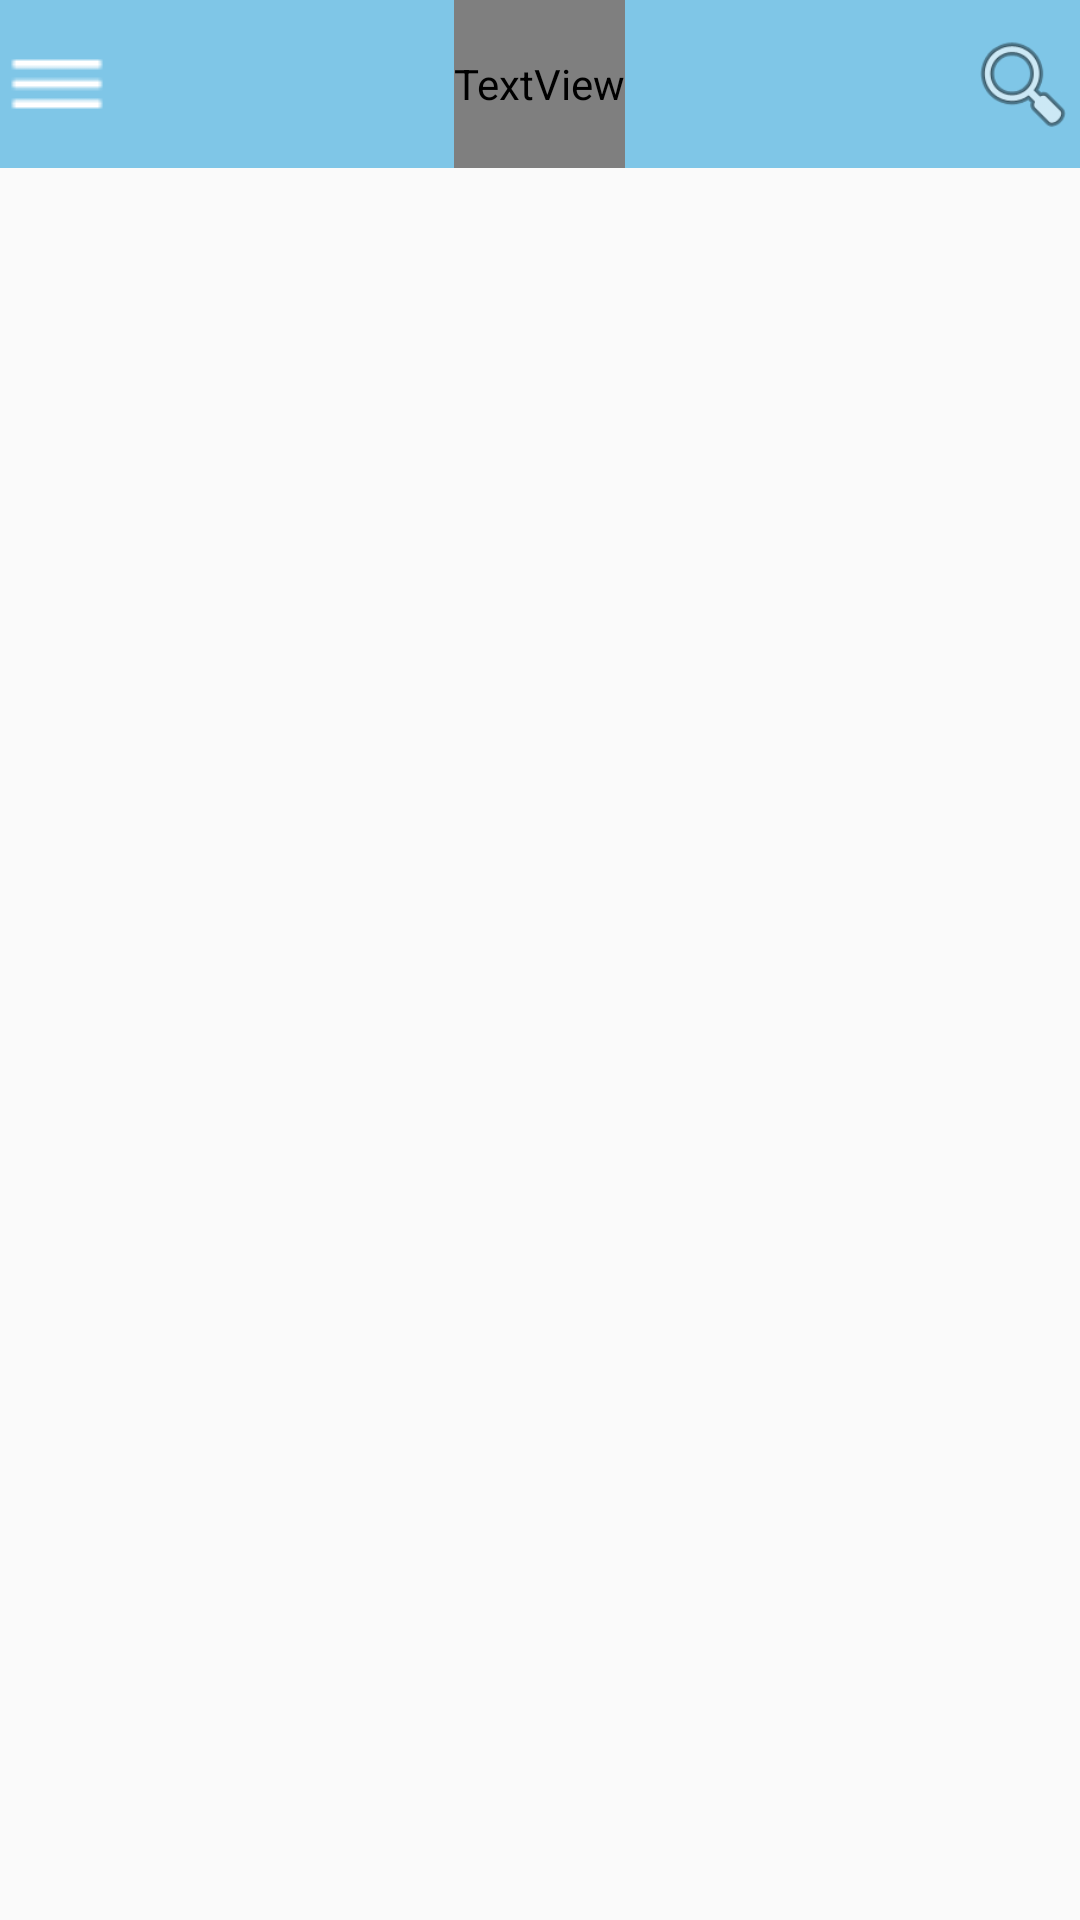

Icon bounding boxes for this 1080×1920 phone screenshot, format [x1, y1, x2, y2]:
humbuger: [11, 59, 103, 109]
search: [981, 42, 1065, 127]
